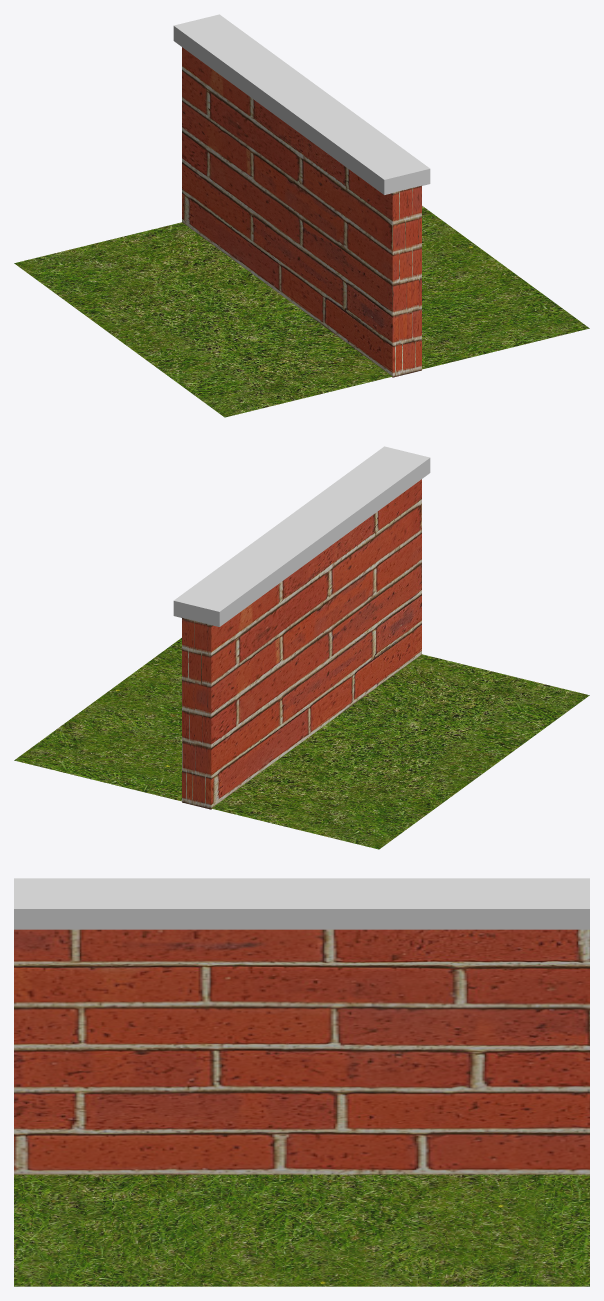
Rendered from vrWallChunk.fbx.
3 renders of one model, top to bottom at view 1: azimuth 30°, elevation 25°; view 2: azimuth 150°, elevation 25°; view 3: azimuth 270°, elevation 25°, orthographic. The views are drawn at different scales.
Visible parts, largest first — view 1: Cube; view 2: Cube; view 3: Cube.
Boxes of the visible parts, box(x1,y1,x2,y2) form: Cube: box(14, 14, 589, 417); Cube: box(14, 446, 589, 849); Cube: box(14, 878, 589, 1286).
Bounding box in the file's own units: 1000 × 1000 × 523.
